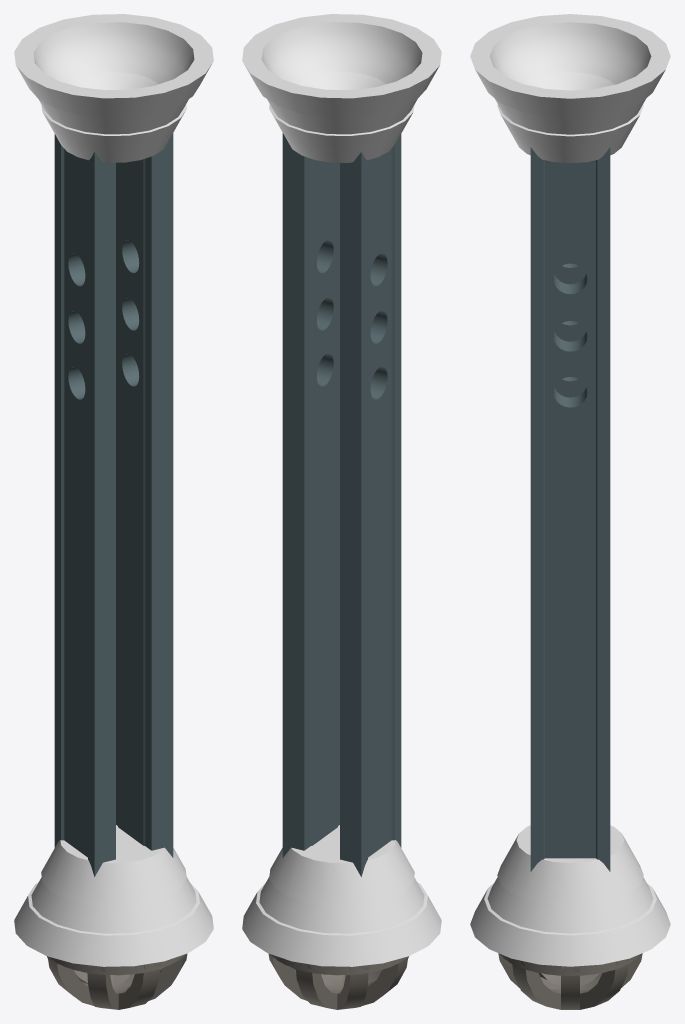
File: Upper Arm.fbx
The picture shows the model from 3 angles, left to right: view 1: azimuth 30°, elevation 25°; view 2: azimuth 150°, elevation 25°; view 3: azimuth 270°, elevation 25°; orthographic projection.
Parts seen in each view (by area): view 1: pCone7_pCube3; view 2: pCone7_pCube3; view 3: pCone7_pCube3.
Boxes of the visible parts, x1=… form: pCone7_pCube3: x1=14, y1=14, x2=213, y2=1009; pCone7_pCube3: x1=242, y1=14, x2=441, y2=1009; pCone7_pCube3: x1=470, y1=14, x2=670, y2=1009.
Bounding box in the file's own units: 123 × 642 × 123.
